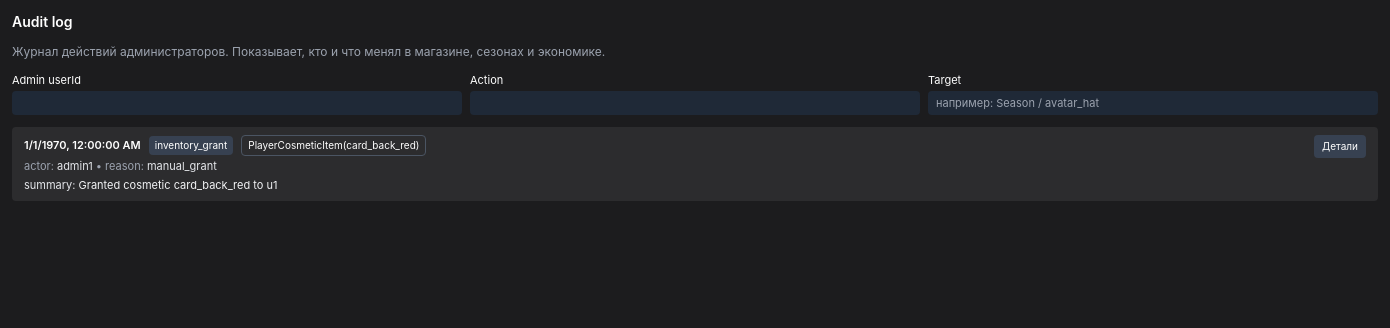
Scenario: AdminAuditLogSection › shows details view with full payload JSON
Click the button "Детали": coordinates (1340, 146) [1314, 135, 1366, 158]
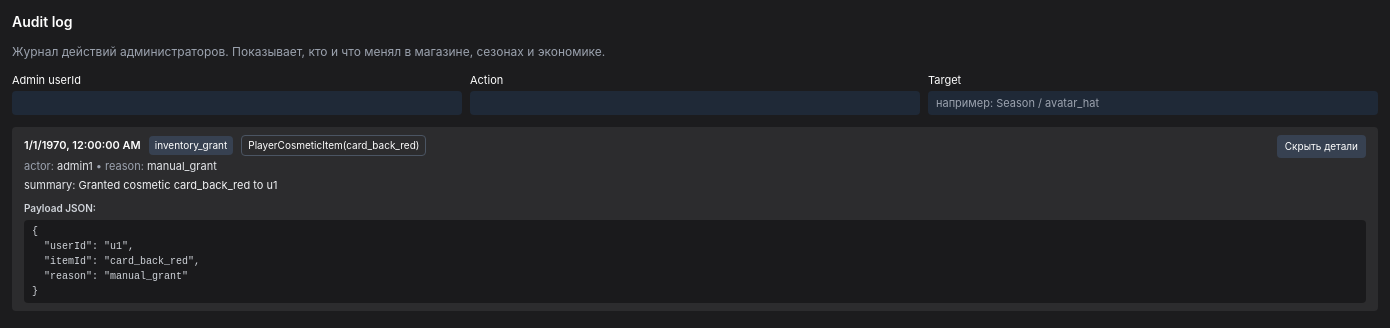
expect the text "\"itemId\": \"card_back_red\"" is shown: met, box [32, 226, 200, 297]
